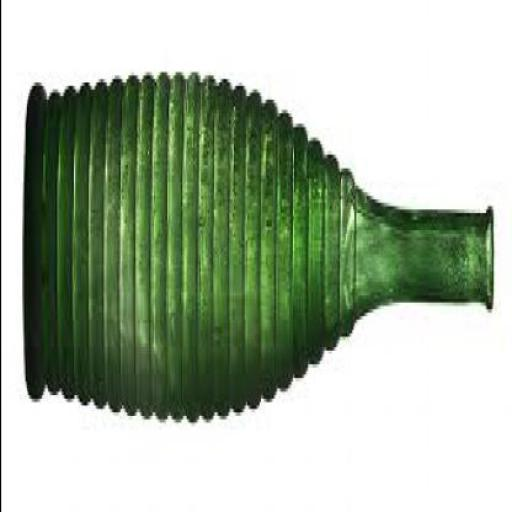glass: (23, 86, 494, 426)
